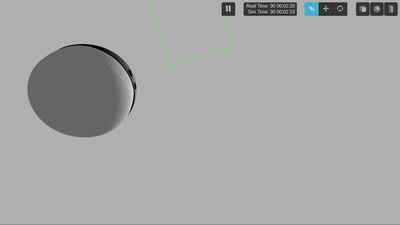mira_robot: (28, 43, 137, 139)
